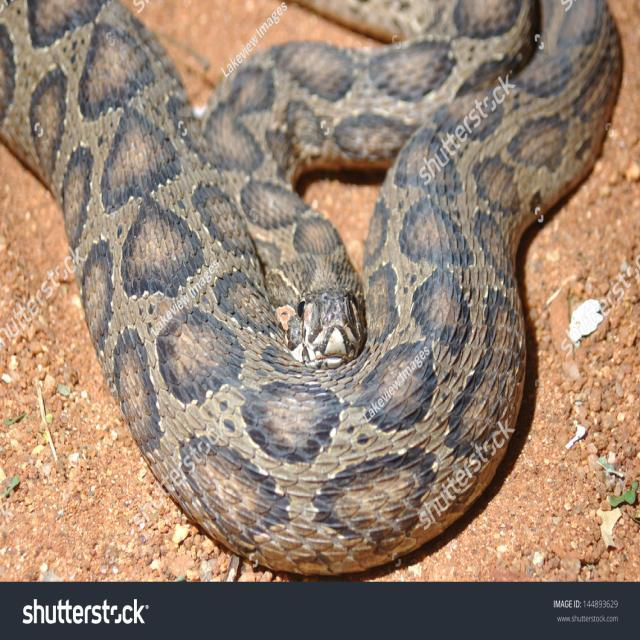Snake: (1, 0, 624, 577)
